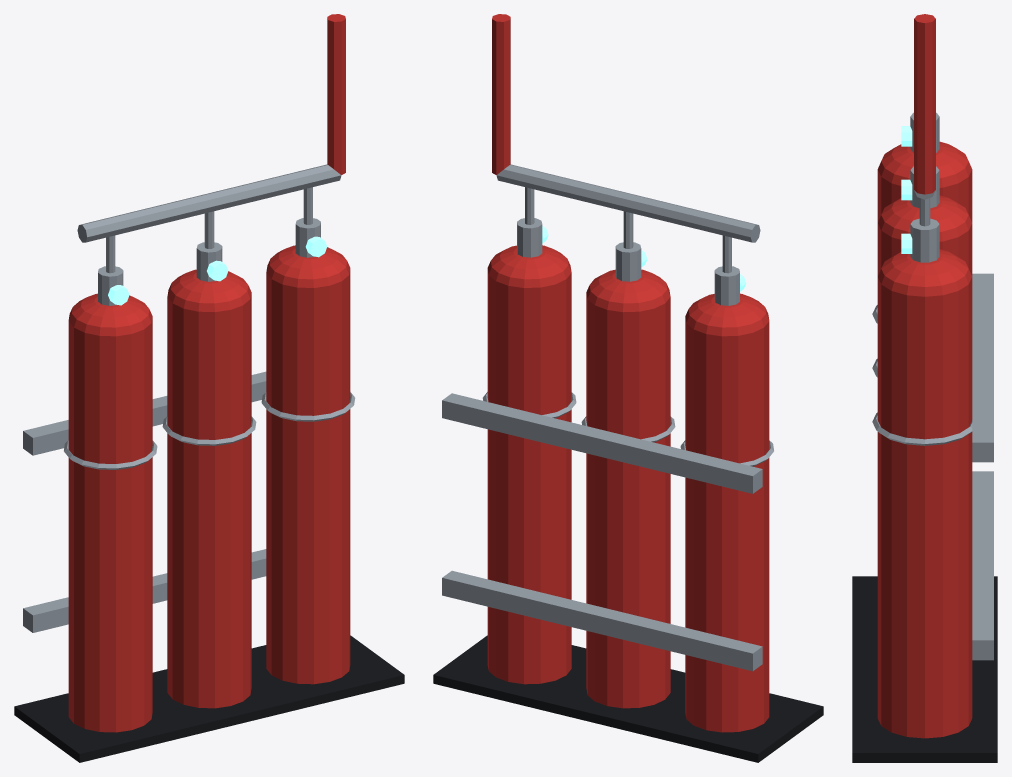
The model's file is 39_Fire_Suppression_Cylinders.fbx.
3 renders of one model, left to right at view 1: azimuth 30°, elevation 25°; view 2: azimuth 150°, elevation 25°; view 3: azimuth 270°, elevation 25°, orthographic. The views are drawn at different scales.
Visible parts, largest first — view 1: 39_Fire_Suppression_Cylinders; view 2: 39_Fire_Suppression_Cylinders; view 3: 39_Fire_Suppression_Cylinders.
Part boxes in pixels (<box>): 39_Fire_Suppression_Cylinders: <box>14,14,404,762</box>; 39_Fire_Suppression_Cylinders: <box>433,14,823,762</box>; 39_Fire_Suppression_Cylinders: <box>852,14,997,762</box>.
Size of the model in its own units: 1.15 by 2.2 by 0.4.
